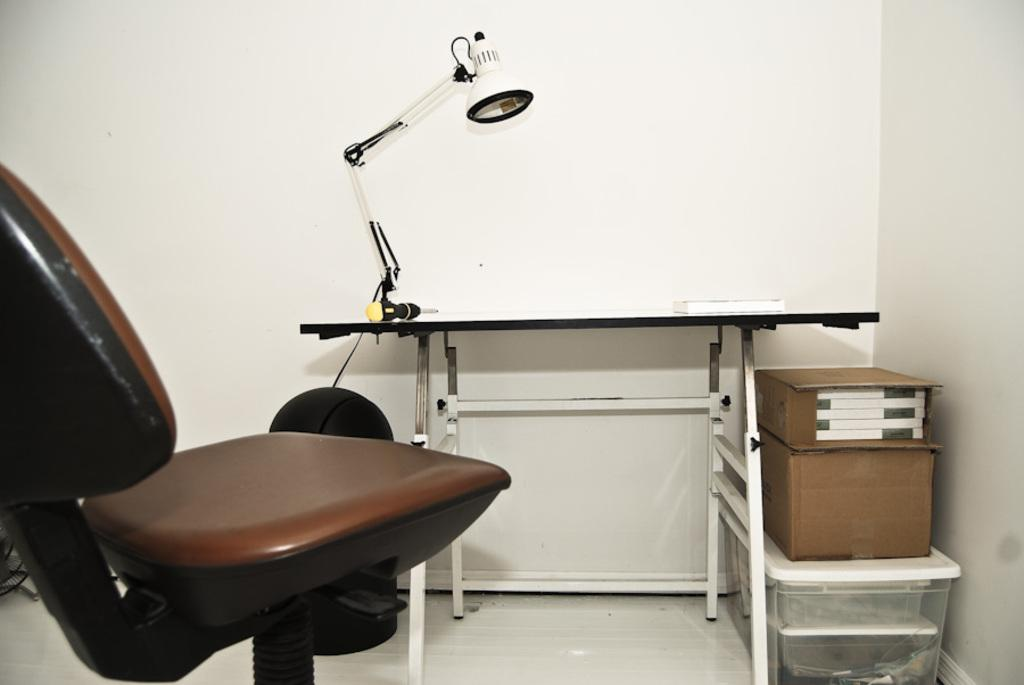Book: (672, 298, 784, 315)
Chair: (0, 161, 511, 683)
